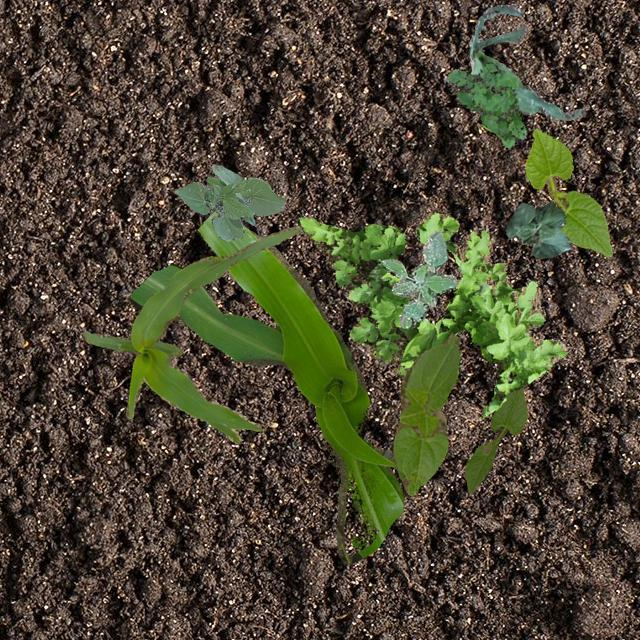crop: (128, 210, 402, 562), (82, 225, 300, 442), (468, 4, 584, 120), (524, 128, 612, 255), (392, 332, 460, 494), (174, 163, 284, 240), (464, 387, 526, 492), (504, 200, 570, 256)
weed: (294, 212, 566, 414), (379, 230, 456, 328), (442, 62, 526, 146)
